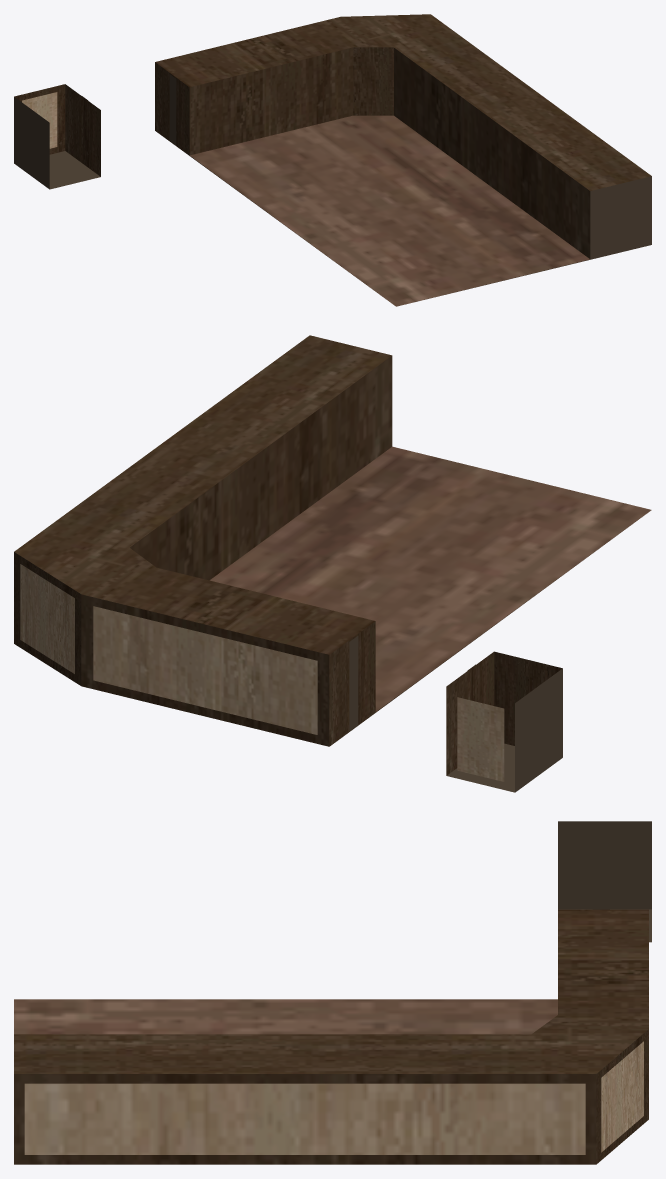
File: เคาร์เตอร์.fbx
3 views of the same model, one above another, from view 1: azimuth 30°, elevation 25°; view 2: azimuth 150°, elevation 25°; view 3: azimuth 270°, elevation 25° (orthographic). The views are drawn at different scales.
Visible parts, largest first — view 1: Cube.070; view 2: Cube.070; view 3: Cube.070.
Boxes of the visible parts, x1,y1,x2,y2 form: Cube.070: (14, 14, 651, 306); Cube.070: (14, 335, 651, 792); Cube.070: (14, 821, 651, 1164).
Size of the model in its own units: 147 by 24.49 by 156.
Materials: 4 (3 with a texture image).
